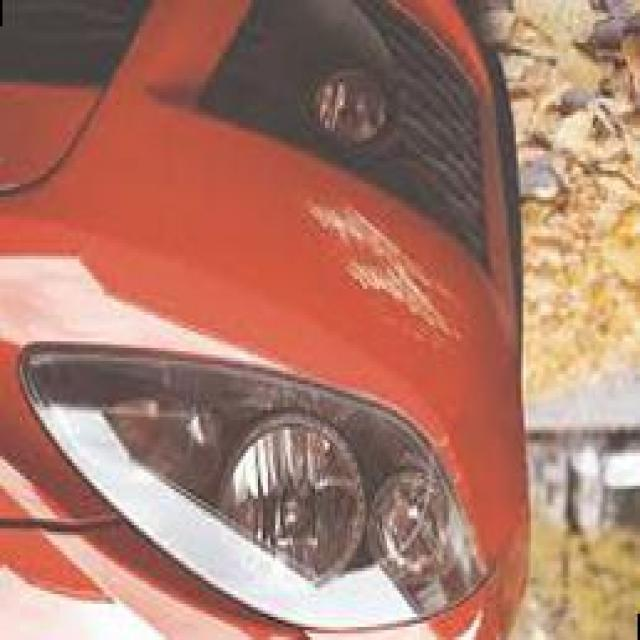scratch: (302, 188, 466, 350)
